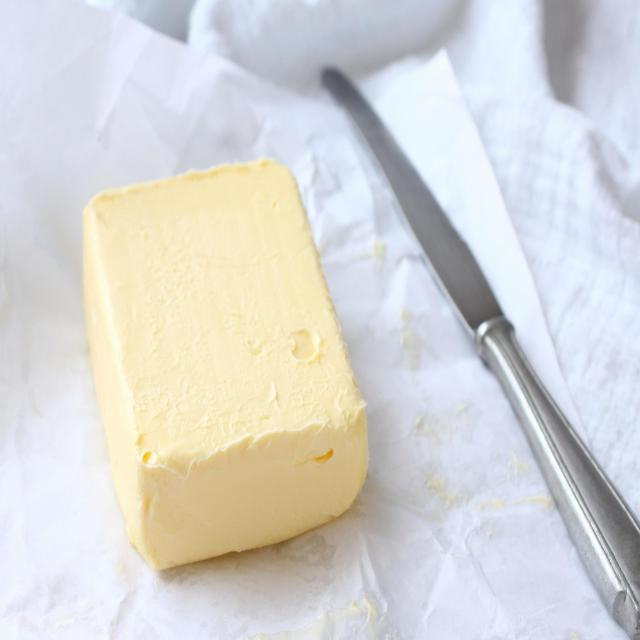butter: (78, 153, 374, 577)
